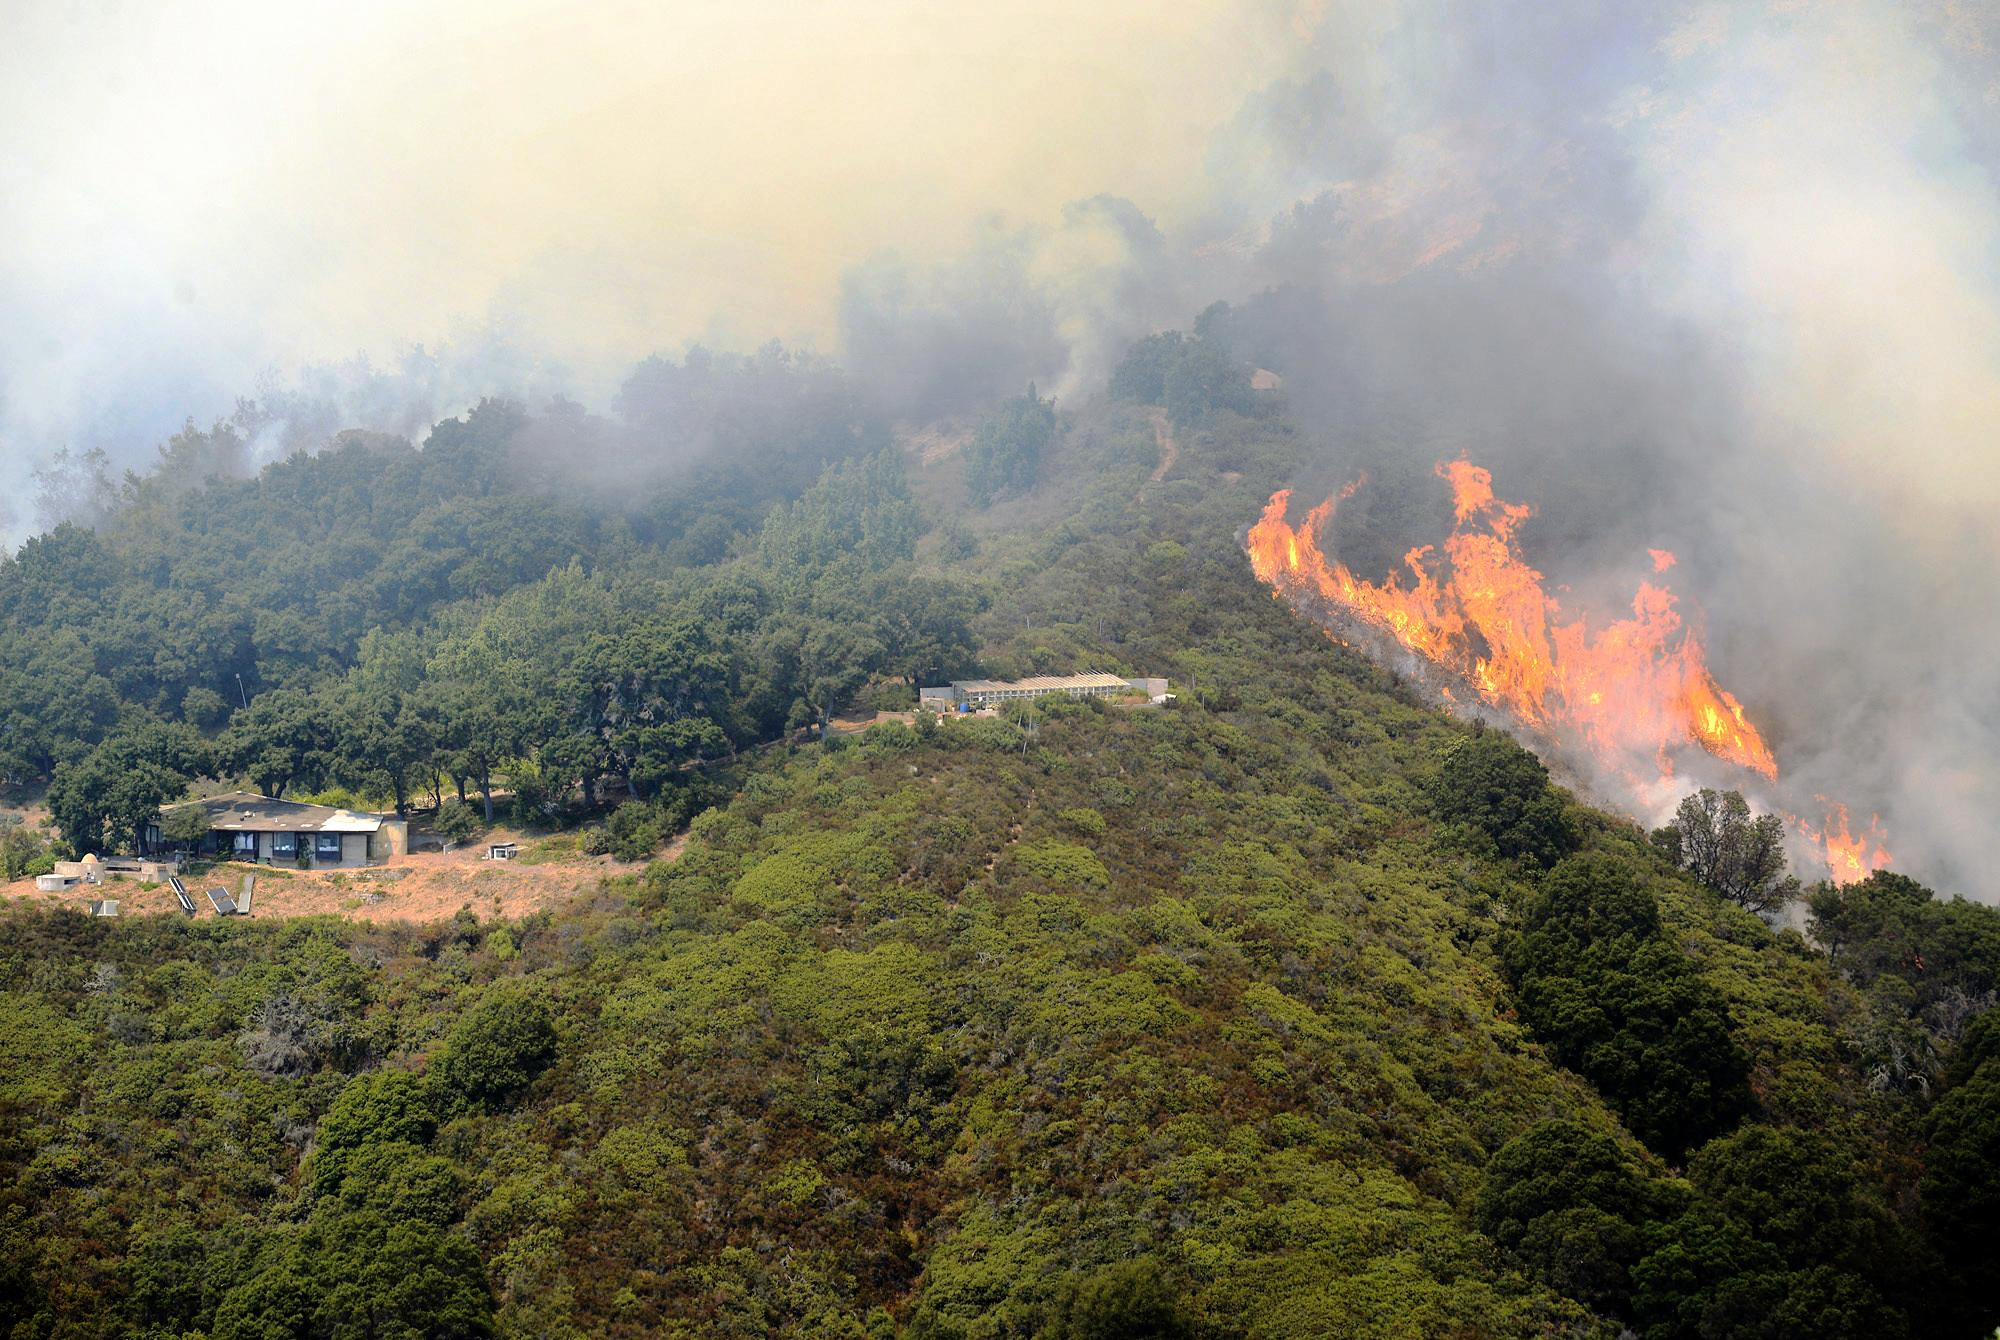fire: (1247, 464, 1916, 906)
